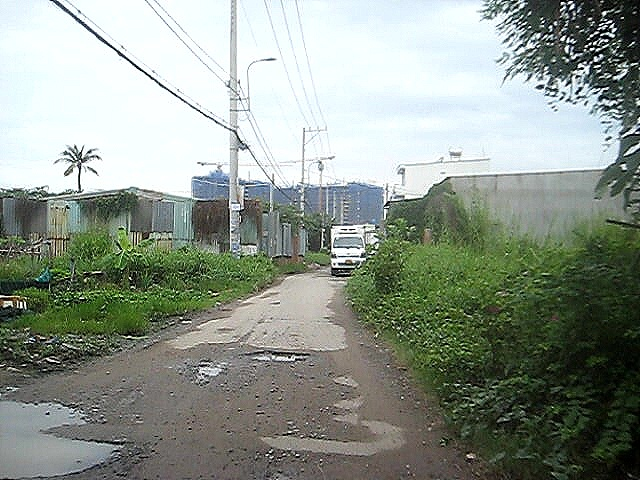hole: (1, 391, 136, 477), (162, 357, 230, 388), (237, 347, 312, 365)
